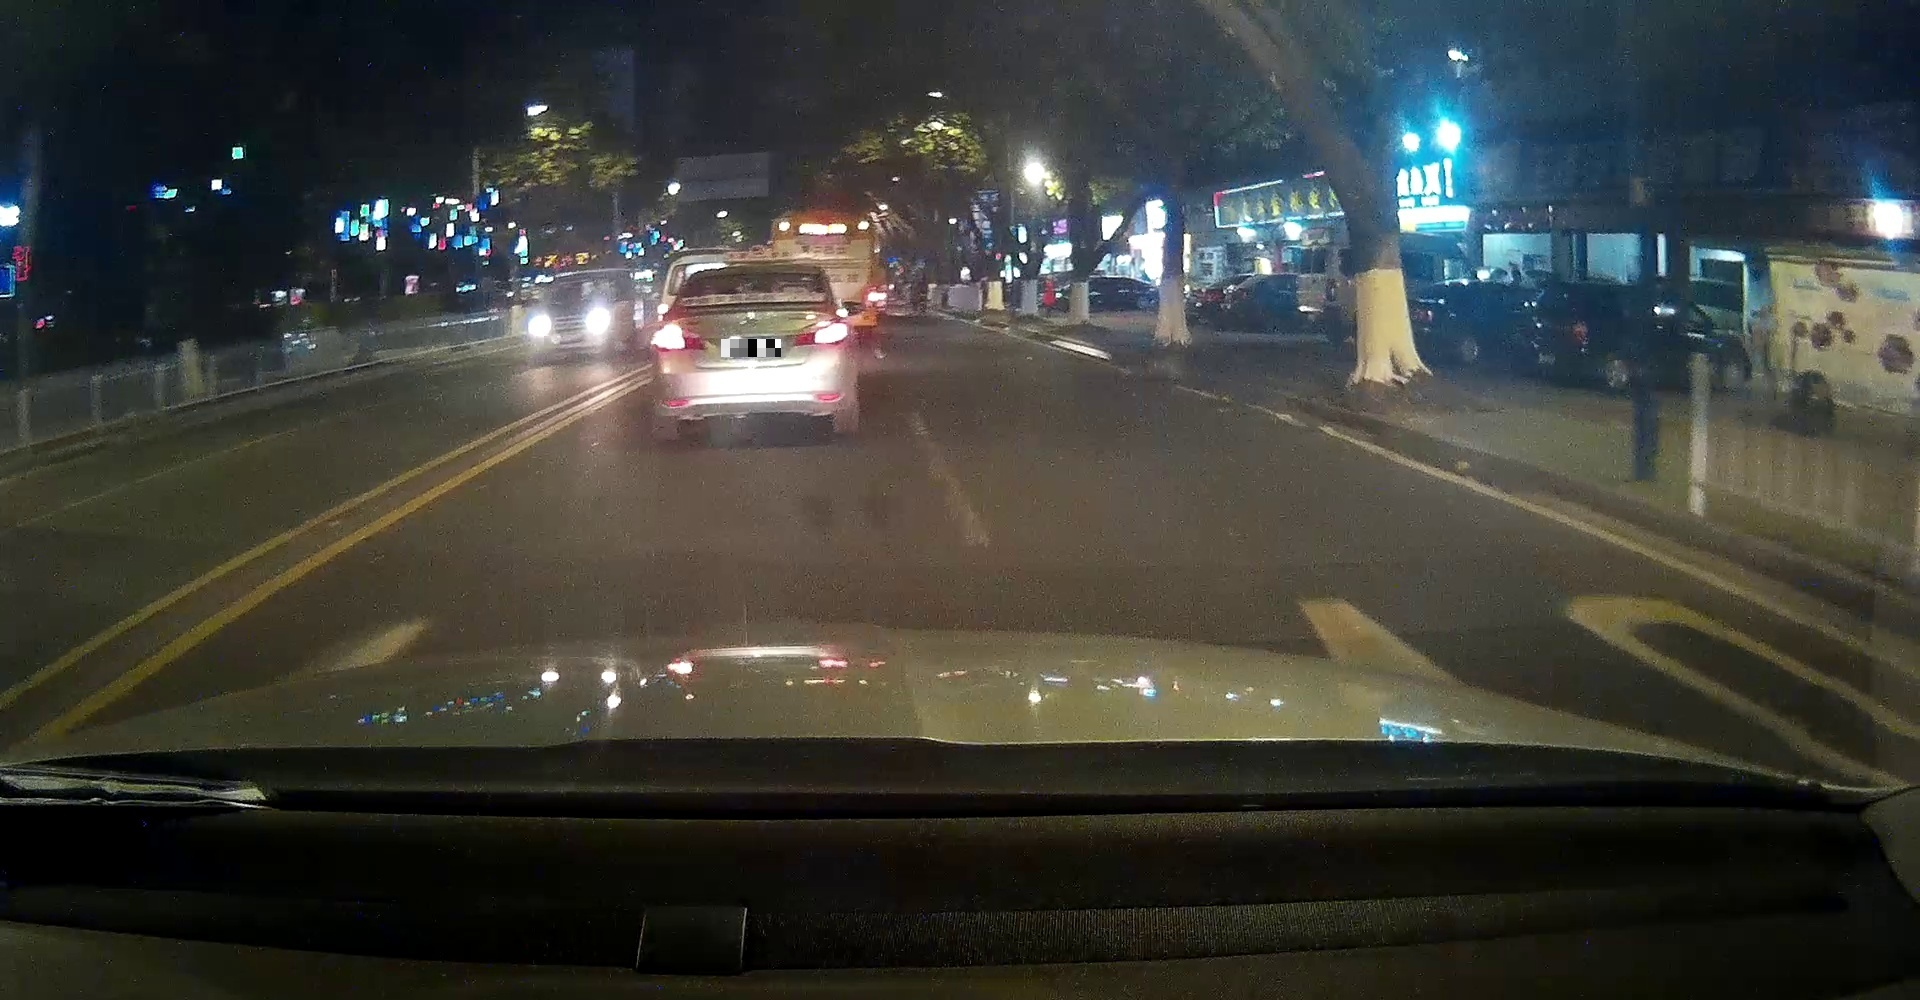L_light: (650, 324, 709, 352)
R_light: (792, 317, 850, 348)
T_light: (737, 298, 763, 305)
night-no: (649, 260, 858, 443)
plate_1: (721, 339, 781, 357)
